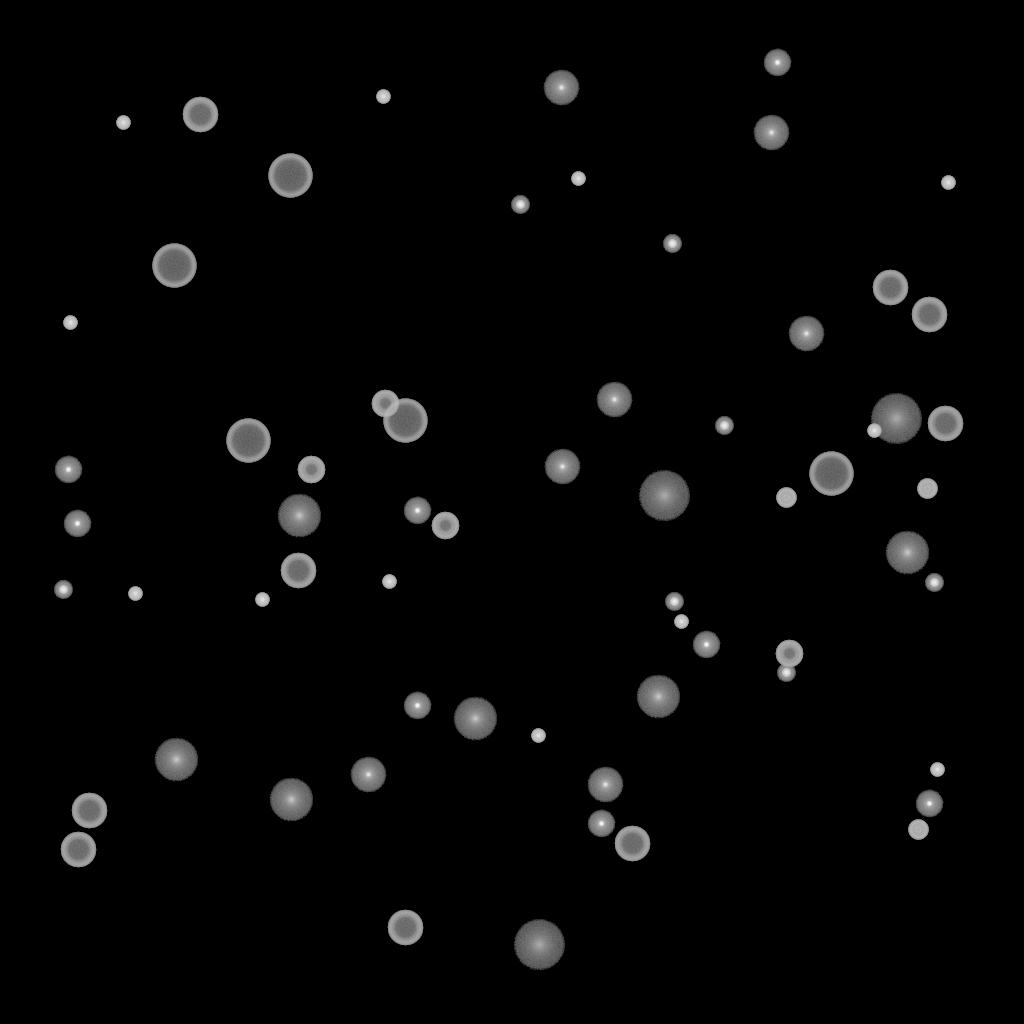depth:-10: (63, 510, 91, 538), (54, 456, 82, 484), (587, 810, 615, 838), (692, 631, 720, 659), (403, 692, 431, 720), (763, 49, 791, 77), (915, 790, 943, 818), (403, 497, 431, 525)
depth:-20: (777, 664, 795, 682), (665, 593, 683, 611), (925, 574, 943, 592), (715, 417, 733, 435), (54, 581, 72, 599), (511, 196, 529, 214), (663, 235, 681, 253)
depth:-30: (376, 90, 390, 104), (531, 729, 545, 743), (63, 316, 77, 330), (930, 763, 944, 777), (571, 172, 585, 186), (116, 116, 130, 130), (255, 593, 269, 607), (128, 587, 142, 601), (941, 176, 955, 190), (382, 575, 396, 589), (867, 424, 881, 438), (674, 615, 688, 629)
depth:-40: (908, 820, 928, 840), (917, 479, 937, 499), (776, 488, 796, 508)
depth:-50: (371, 390, 399, 418), (775, 640, 803, 668), (431, 512, 459, 540), (297, 456, 325, 484)
depth:-60: (911, 297, 947, 333), (60, 832, 96, 868), (182, 97, 218, 133), (280, 553, 316, 589), (614, 826, 650, 862), (872, 270, 908, 306), (927, 406, 963, 442), (387, 910, 423, 946), (71, 793, 107, 829)
depth:-70: (268, 154, 312, 198), (152, 244, 196, 288), (383, 399, 427, 443), (226, 419, 270, 463), (809, 452, 853, 496)
depth:0: (543, 70, 579, 106), (596, 382, 632, 418), (788, 316, 824, 352), (544, 449, 580, 485), (587, 767, 623, 803), (753, 115, 789, 151), (350, 757, 386, 793)
depth:10: (636, 675, 680, 719), (885, 531, 929, 575), (453, 697, 497, 741), (154, 738, 198, 782), (269, 778, 313, 822), (277, 494, 321, 538)
depth:20: (638, 471, 690, 521), (870, 394, 922, 444), (513, 920, 565, 970)
